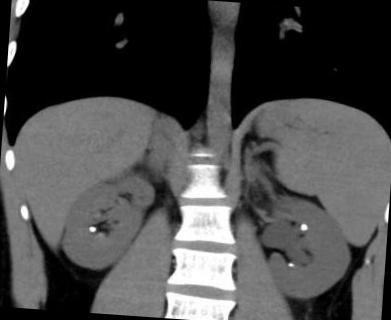Tas_Var: (84, 223, 98, 236), (297, 221, 311, 233), (286, 260, 296, 269)
